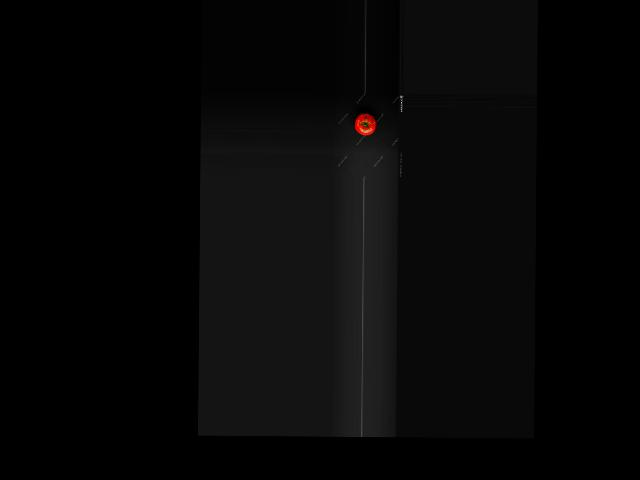tomato: (354, 113, 376, 136)
